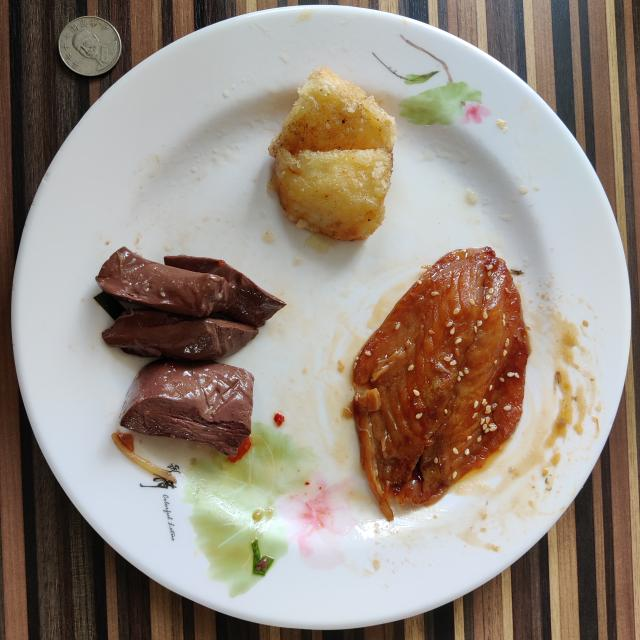Kabayaki sea bream fillet: (352, 248, 530, 520)
coin: (59, 16, 121, 76)
fried potato: (269, 66, 396, 240)
pig blood curd: (95, 248, 285, 461)
